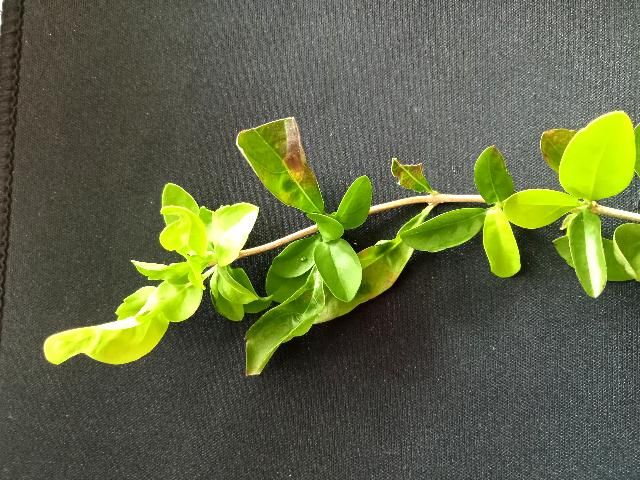pylokantus: (42, 109, 638, 375)
